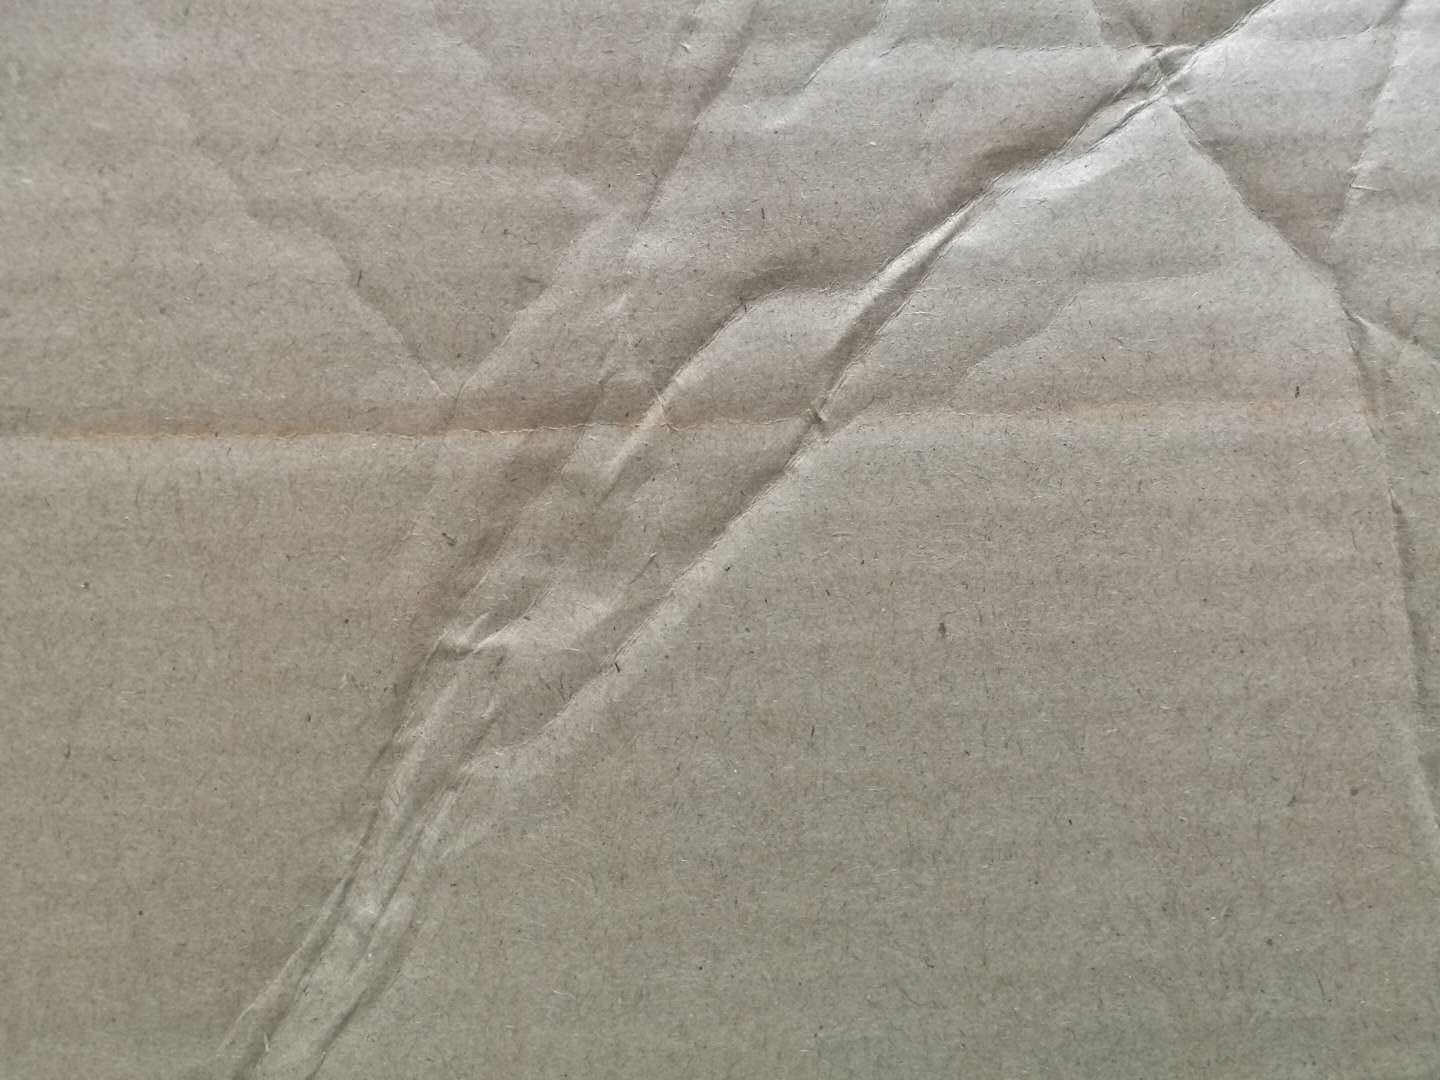defect: (188, 1, 1323, 1080), (1083, 2, 1440, 832), (2, 358, 1440, 508)
